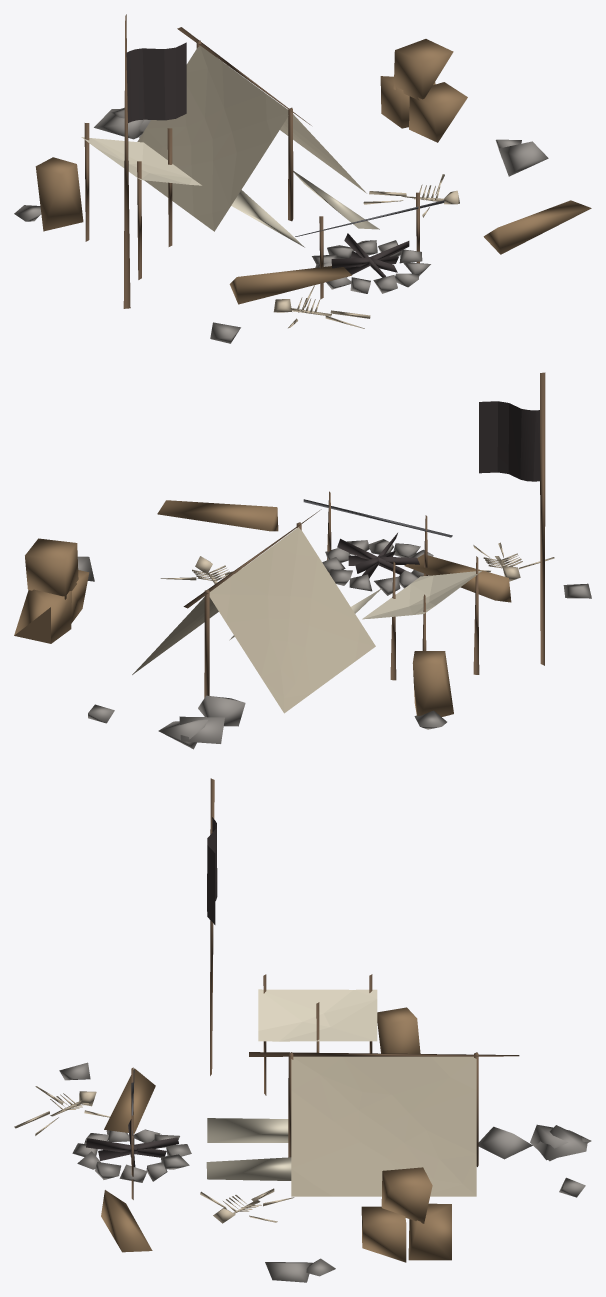
Rendered from poi_skeleton_camp_lods.glb.
The picture shows the model from 3 angles, top to bottom: view 1: azimuth 30°, elevation 25°; view 2: azimuth 150°, elevation 25°; view 3: azimuth 270°, elevation 25°; orthographic projection.
Parts seen in each view (by area): view 1: poi_skeleton_camp_far; view 2: poi_skeleton_camp_far; view 3: poi_skeleton_camp_far.
Part boxes in pixels (x1,y1,x2,y2): poi_skeleton_camp_far: (14, 14, 591, 343); poi_skeleton_camp_far: (14, 372, 591, 749); poi_skeleton_camp_far: (14, 778, 591, 1282).
Size of what is drawn, in the model's own units: 8.09 by 4.93 by 8.73.
